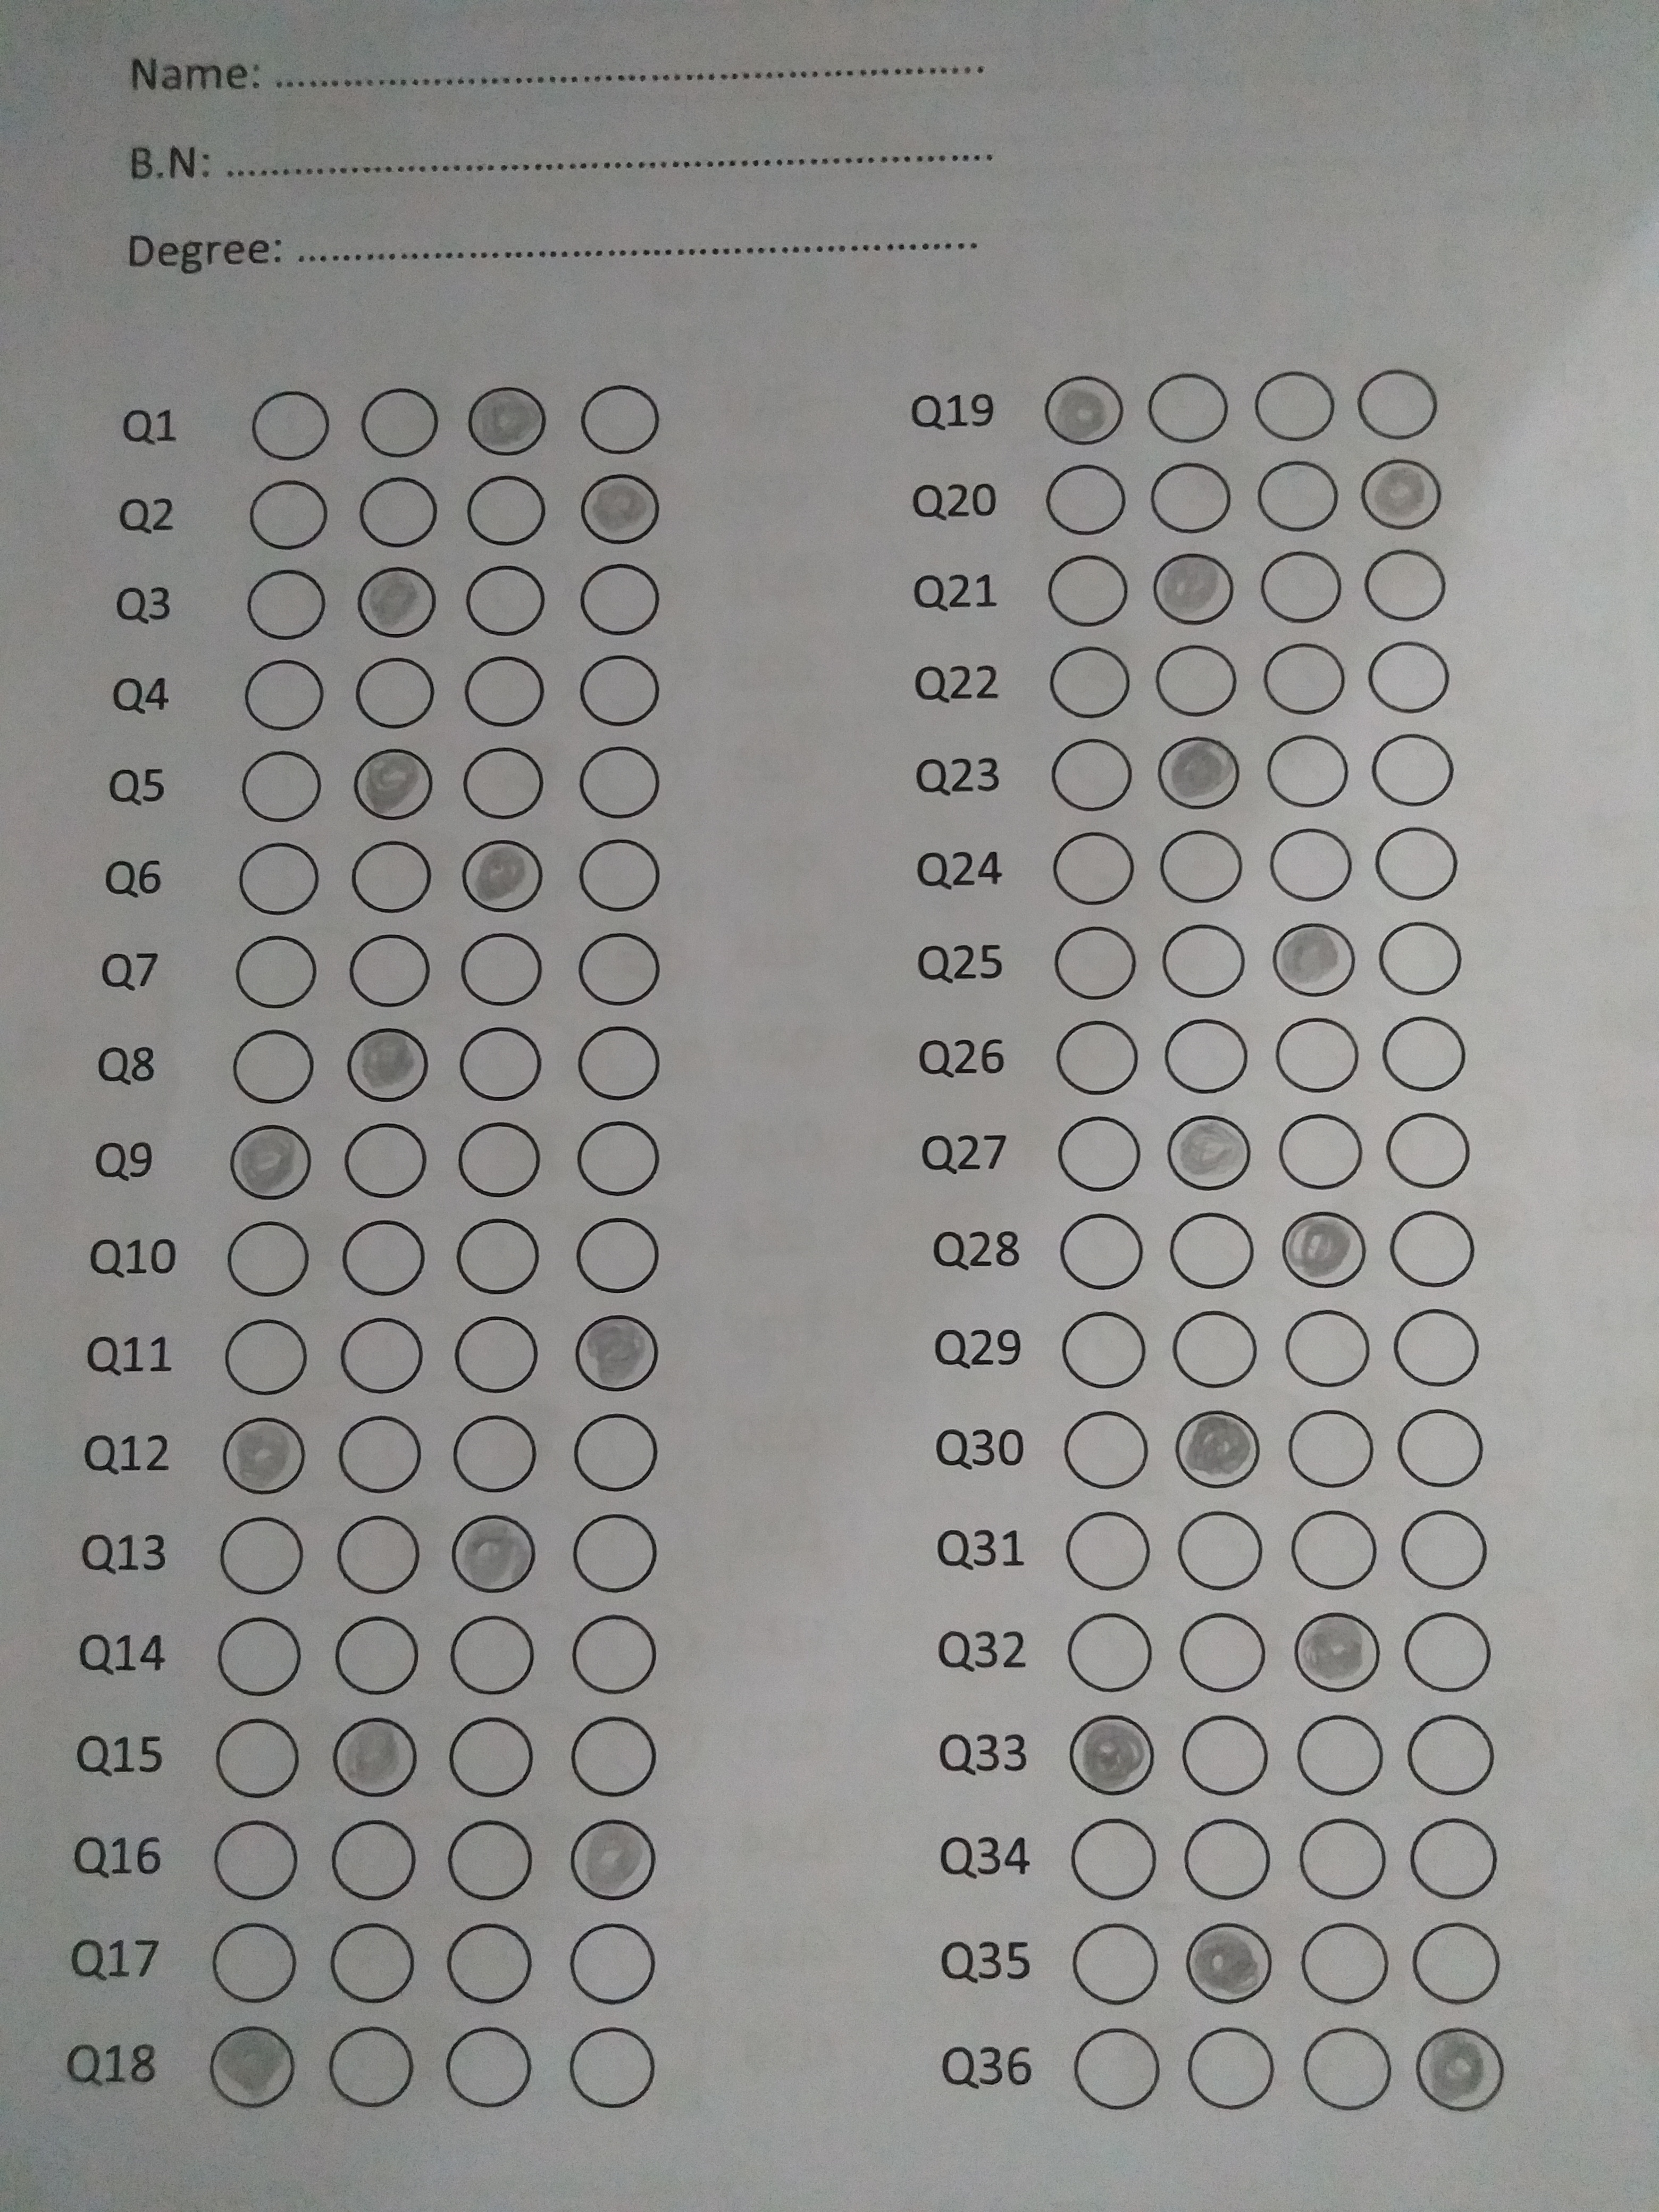not-c: (1168, 1306, 1262, 1393), (235, 927, 329, 1014), (235, 833, 329, 920), (572, 371, 666, 458), (237, 467, 331, 554), (352, 470, 446, 557), (455, 735, 549, 822), (457, 648, 551, 735), (460, 559, 554, 646), (575, 834, 669, 921), (573, 648, 667, 735), (572, 556, 666, 643), (343, 378, 437, 465), (1148, 636, 1243, 723), (1359, 542, 1453, 629), (1143, 448, 1237, 535), (1345, 357, 1439, 444), (1243, 359, 1337, 446), (1138, 364, 1232, 451), (1047, 916, 1141, 1003), (1042, 824, 1136, 911), (1042, 733, 1136, 820), (1044, 639, 1138, 726), (1039, 547, 1133, 634), (1033, 455, 1127, 542), (566, 923, 660, 1010), (343, 923, 437, 1010), (1058, 1312, 1152, 1399), (1164, 1211, 1258, 1298), (1056, 1212, 1150, 1299), (1051, 1012, 1145, 1099), (1155, 1010, 1249, 1097), (1270, 1109, 1364, 1197), (1267, 1008, 1361, 1096), (1159, 920, 1253, 1007), (1152, 827, 1246, 914), (1248, 641, 1342, 728), (1385, 1204, 1480, 1291), (1380, 1104, 1474, 1191), (1377, 921, 1471, 1008), (1373, 822, 1467, 909), (1363, 732, 1457, 819), (1356, 637, 1450, 725), (1373, 1010, 1467, 1097), (448, 1116, 542, 1204), (568, 1716, 662, 1803), (563, 1919, 657, 2006), (563, 2027, 657, 2114), (1392, 1308, 1486, 1395), (1392, 1404, 1486, 1491), (1291, 1503, 1385, 1590), (1403, 1609, 1497, 1696), (1406, 1818, 1500, 1905), (1410, 1916, 1504, 2003), (1302, 2026, 1396, 2113), (1185, 2024, 1279, 2111), (1300, 1918, 1394, 2005), (1298, 1818, 1392, 1905), (1178, 1817, 1272, 1904), (1173, 1507, 1267, 1594), (1281, 1406, 1375, 1493), (1286, 1303, 1380, 1390), (1058, 1407, 1152, 1494), (1061, 1508, 1155, 1595), (1063, 1606, 1157, 1693), (572, 1113, 666, 1200), (331, 1214, 425, 1301), (336, 1308, 430, 1395), (444, 1308, 538, 1395), (331, 1409, 425, 1496), (444, 1406, 538, 1493), (211, 1510, 305, 1597), (333, 1514, 427, 1601), (328, 1616, 422, 1703), (209, 1611, 303, 1698), (206, 1716, 300, 1803), (211, 1817, 305, 1904), (328, 1817, 422, 1904), (204, 1918, 298, 2005), (324, 2024, 418, 2111), (441, 1615, 535, 1702), (446, 1710, 540, 1797), (444, 1818, 538, 1905), (446, 1916, 540, 2003), (237, 559, 331, 646), (352, 650, 446, 737), (347, 829, 441, 914), (232, 742, 326, 827), (462, 470, 556, 556), (237, 655, 331, 740), (577, 742, 671, 827), (240, 383, 335, 469), (1253, 547, 1347, 632), (1243, 455, 1337, 540), (451, 927, 545, 1012), (1054, 1113, 1148, 1198), (1267, 817, 1361, 902), (1256, 733, 1351, 819), (434, 2026, 528, 2111), (565, 1411, 659, 1496), (561, 1514, 655, 1599), (563, 1613, 657, 1698), (1398, 1507, 1492, 1592), (1406, 1710, 1500, 1796), (1291, 1710, 1385, 1796), (1072, 2024, 1166, 2109), (1178, 1714, 1272, 1799), (1173, 1615, 1267, 1700), (1065, 1813, 1159, 1898), (1066, 1923, 1161, 2008), (221, 1217, 315, 1303), (448, 1214, 542, 1299), (568, 1211, 662, 1296), (218, 1310, 312, 1395), (326, 1918, 420, 2003), (333, 1113, 427, 1198), (223, 1021, 317, 1106), (451, 1024, 545, 1109), (577, 1024, 671, 1109)
taken-c: (1056, 1709, 1157, 1799), (1157, 1108, 1258, 1198), (1270, 1202, 1371, 1292), (566, 1305, 667, 1395), (1162, 1404, 1263, 1494), (1284, 1608, 1385, 1698), (199, 2020, 300, 2111), (211, 1409, 312, 1500), (1410, 2024, 1509, 2114), (1180, 1919, 1279, 2010), (559, 1811, 659, 1902), (441, 1508, 540, 1599), (319, 1710, 420, 1799), (349, 556, 441, 644), (1267, 916, 1361, 1003), (1349, 448, 1443, 535), (1147, 543, 1241, 631), (451, 829, 545, 916), (573, 465, 667, 552), (458, 380, 552, 467), (218, 1122, 317, 1204), (1148, 730, 1243, 815), (345, 742, 439, 827), (342, 1022, 434, 1106), (1037, 368, 1131, 446)
